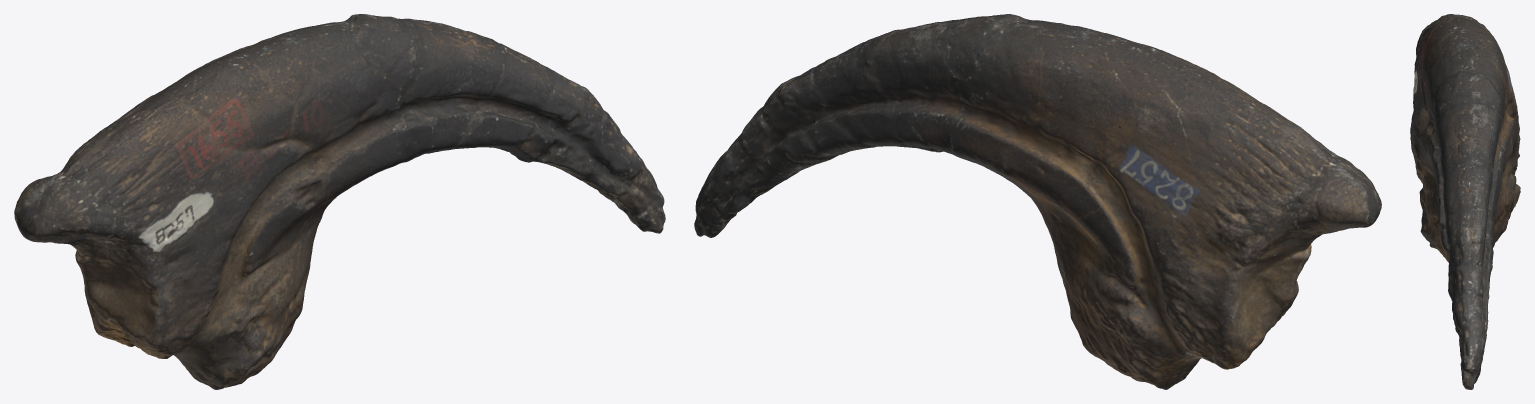
Rendered from allosaurus_fragilis_usnm.glb.
3 views of the same model, side by side, from view 1: azimuth 30°, elevation 25°; view 2: azimuth 150°, elevation 25°; view 3: azimuth 270°, elevation 25° (orthographic). The views are drawn at different scales.
Parts seen in each view (by area): view 1: Allosaurus_fragilis_Marsh__1877-150k; view 2: Allosaurus_fragilis_Marsh__1877-150k; view 3: Allosaurus_fragilis_Marsh__1877-150k.
Boxes of the visible parts, box(x1,y1,x2,y2) form: Allosaurus_fragilis_Marsh__1877-150k: box(14, 14, 665, 389); Allosaurus_fragilis_Marsh__1877-150k: box(694, 14, 1381, 389); Allosaurus_fragilis_Marsh__1877-150k: box(1410, 14, 1520, 389).
Bounding box in the file's own units: 0.1445 × 0.0692 × 0.0287.
1 material, 1 textured.
